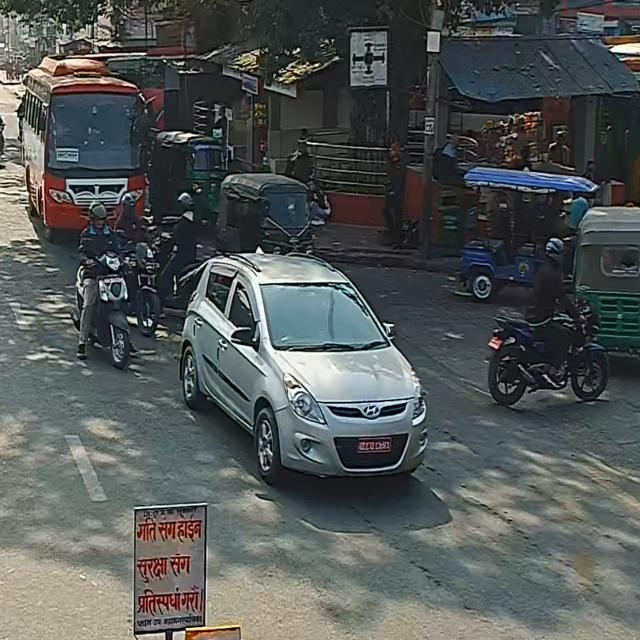license_plate: (321, 425, 412, 461)
